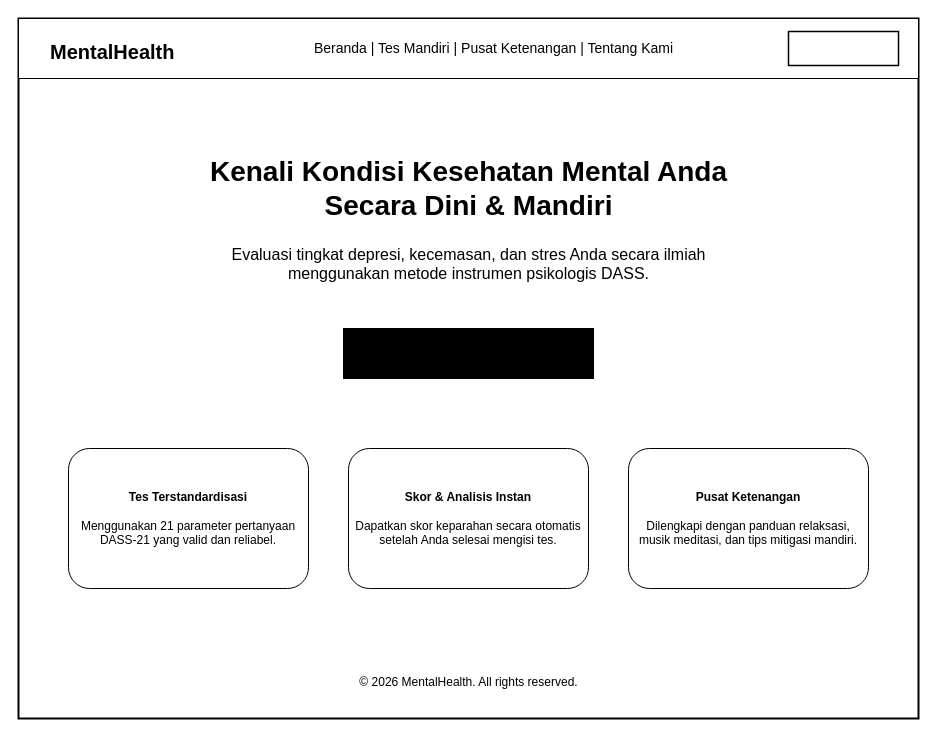
The diagram is 936 pixels wide and 736 high, and some of its shapes have lost their labels. Each missing label, with the centre of its shape:
"Login Admin" goes at (x=843, y=48).
"Mulai Tes Mandiri (DASS)" goes at (x=468, y=353).
